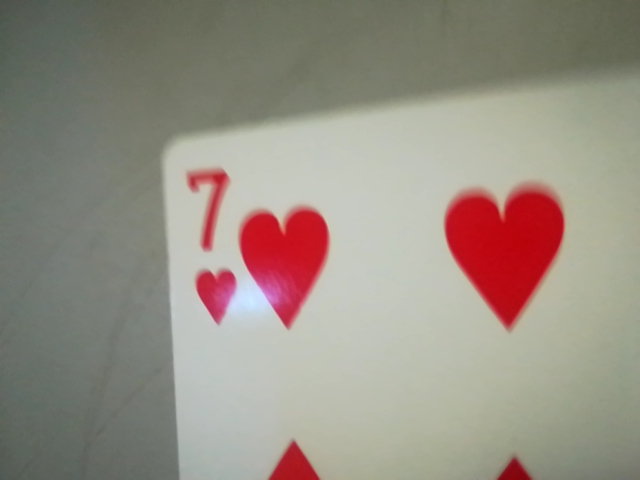hx 7: (168, 151, 246, 338)
